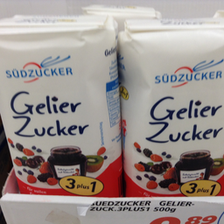tomato_sauce: (1, 15, 120, 195), (118, 18, 224, 199)
